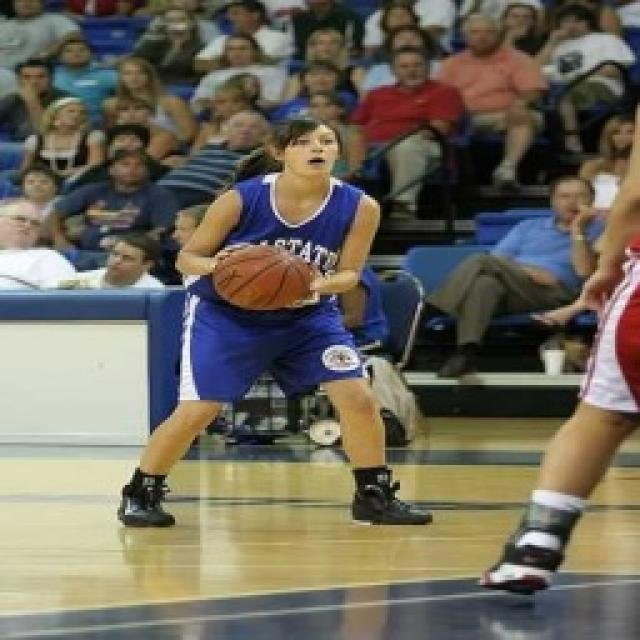rim: (210, 246, 316, 313)
